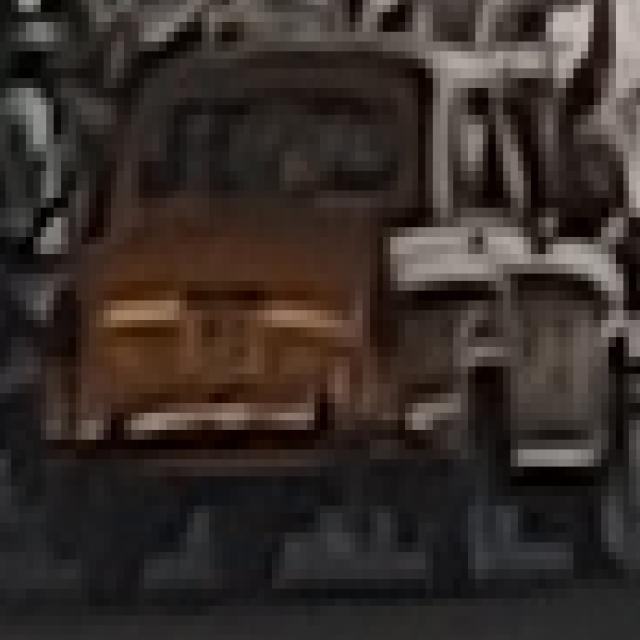ambasador_taxi: (49, 16, 634, 618)
